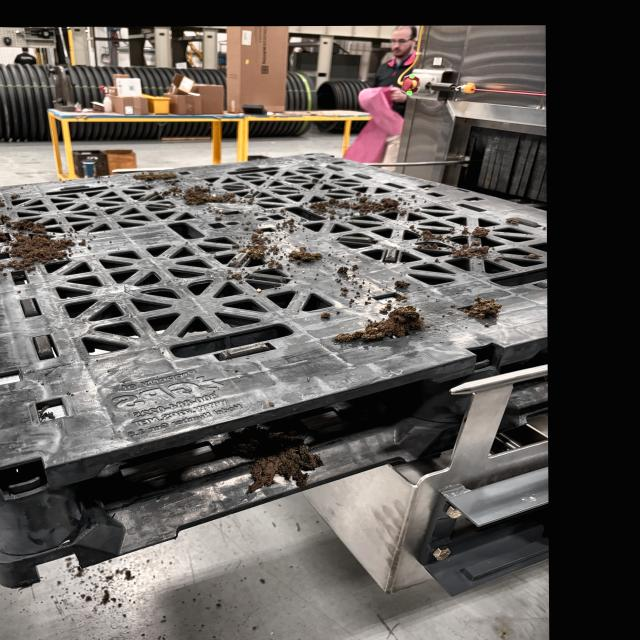igps: (0, 147, 557, 595)
